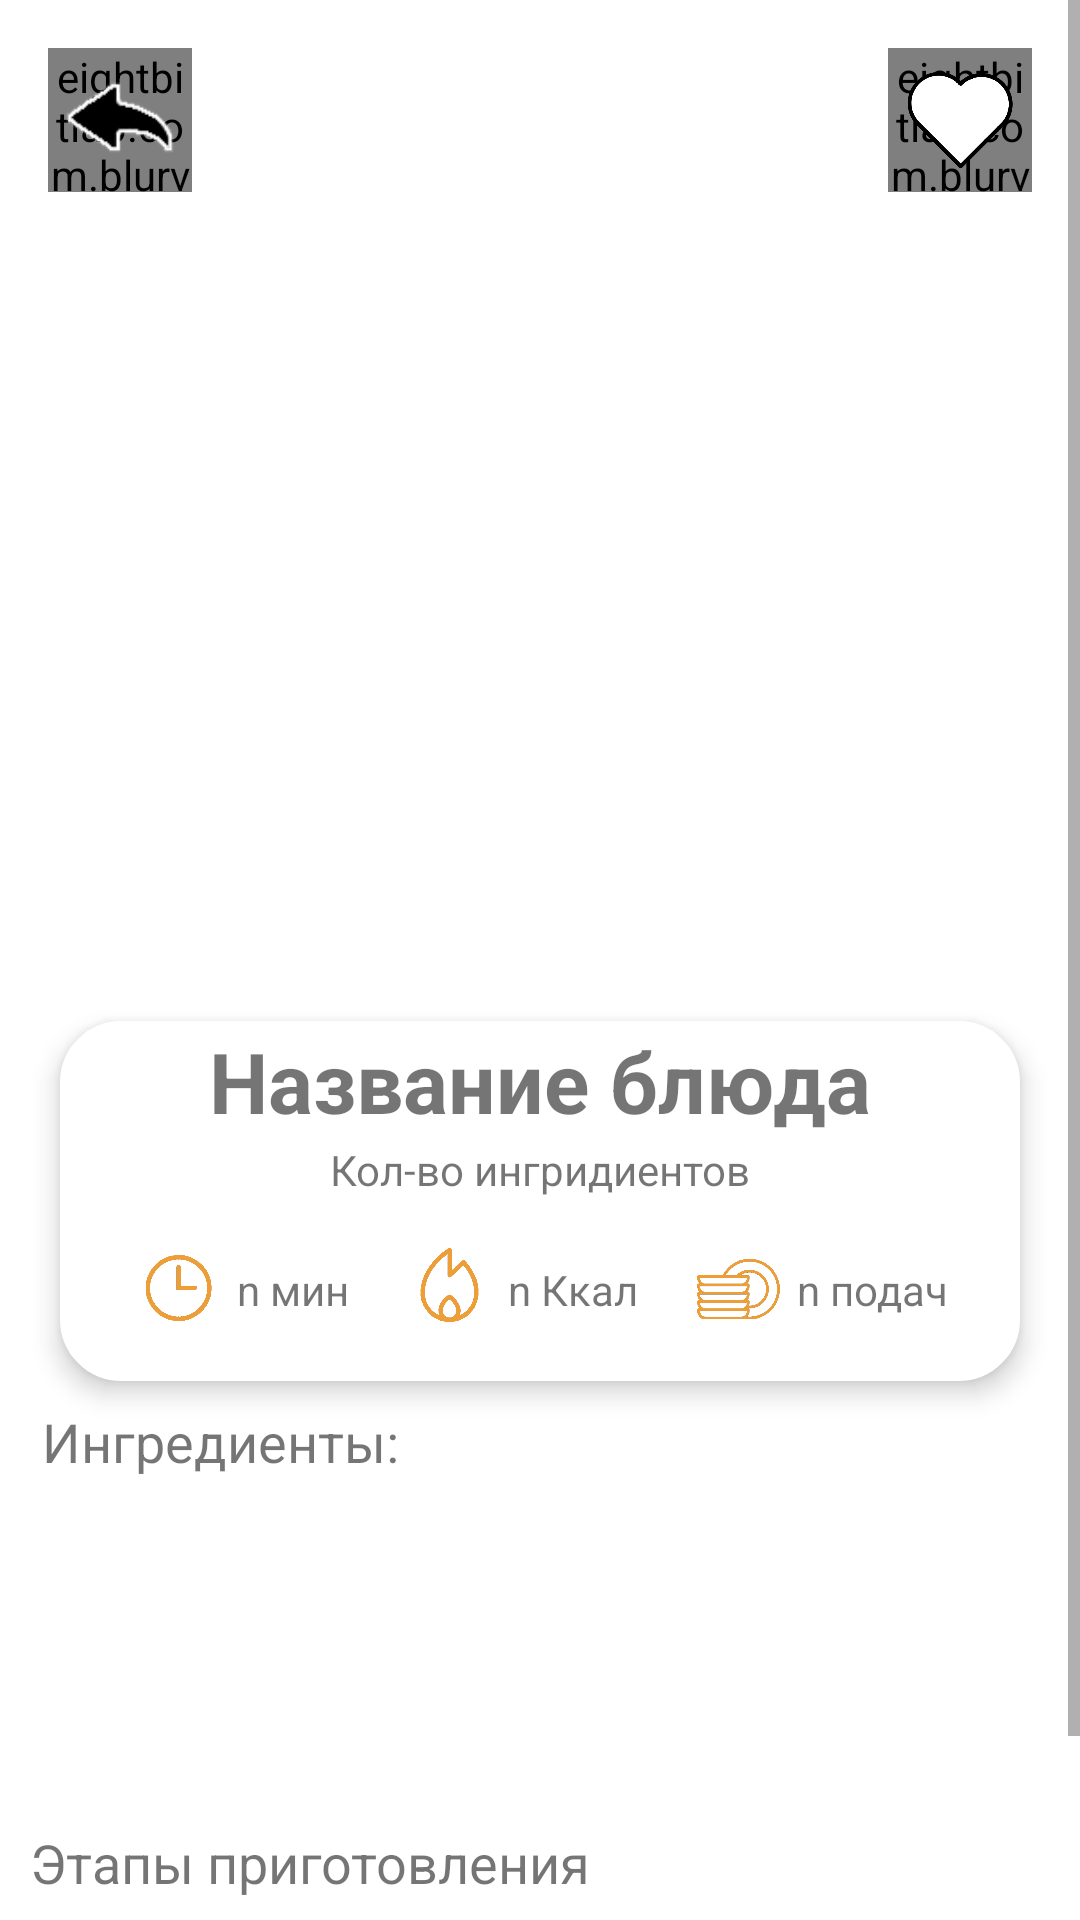

Icon click points for this 1080w x 1920h phone screenshot, format (x=x, y=y):
arrow back: (x=120, y=120)
clocks: (x=179, y=1288)
heart: (x=960, y=120)
kcal: (x=449, y=1285)
servs: (x=738, y=1289)
